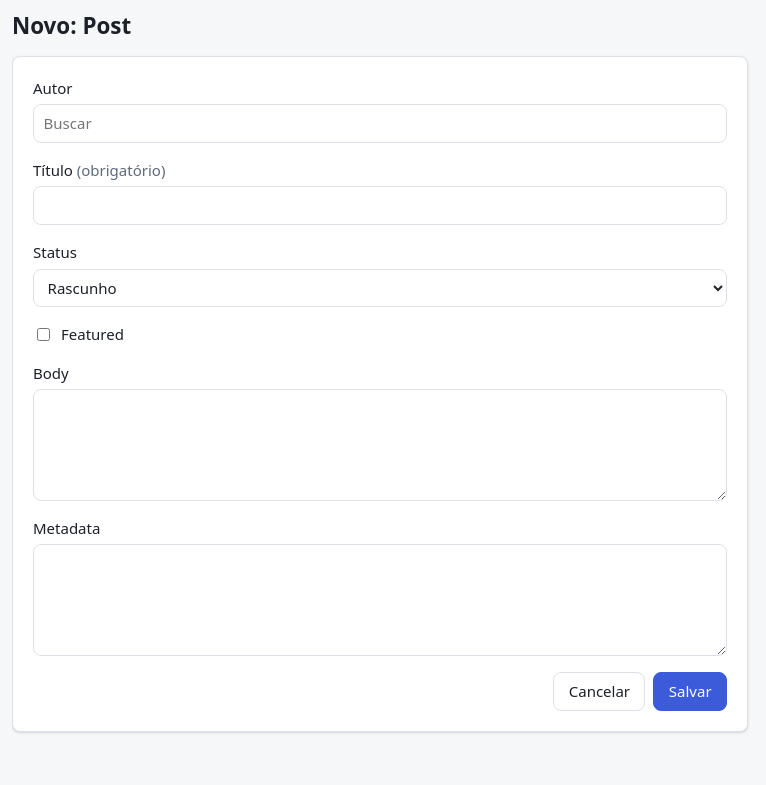
Test: picks the first option with Enter and closes with Escape
The width and height of the screenshot is (766, 785).
Click the dropdown labelled "Autor" at (380, 124), box x1=33 y1=104 x2=727 y2=143
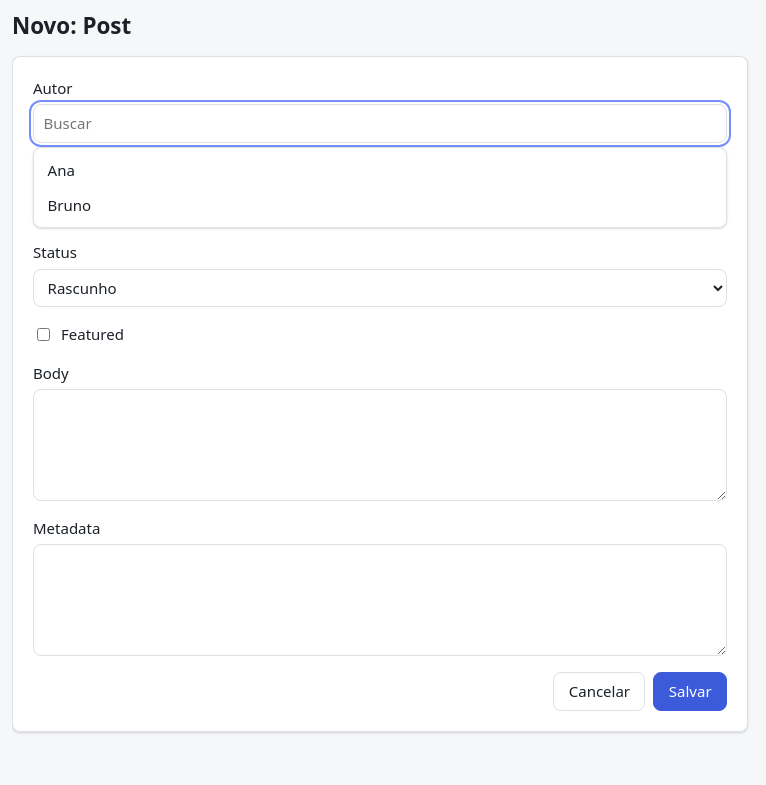
Result: the list is shown at x1=33 y1=147 x2=727 y2=228
Press Escape
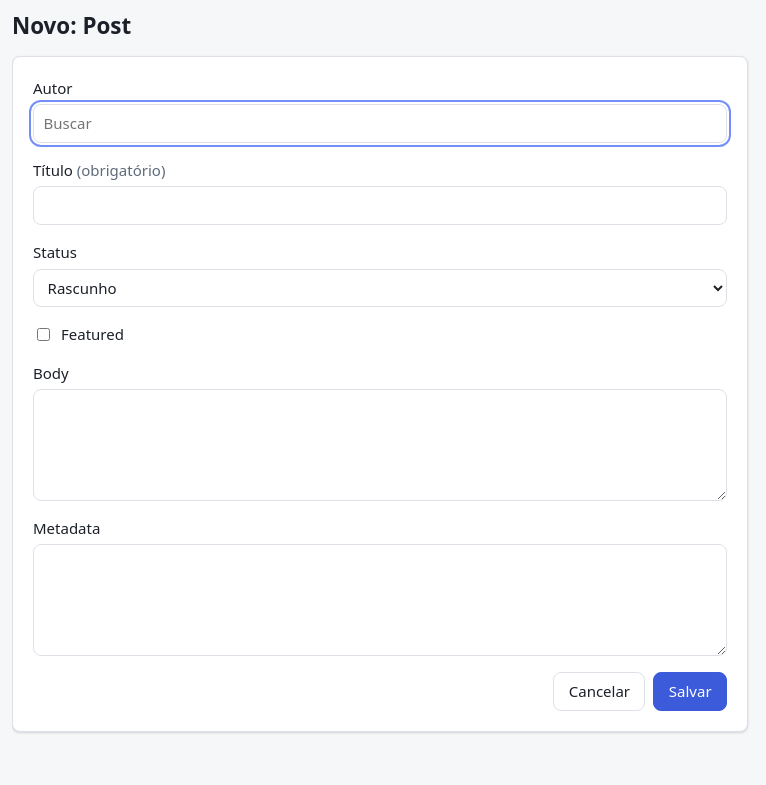
Result: the list is gone
Click the field labelled "Título (obrigatório)" at (380, 206), box x1=33 y1=186 x2=727 y2=225
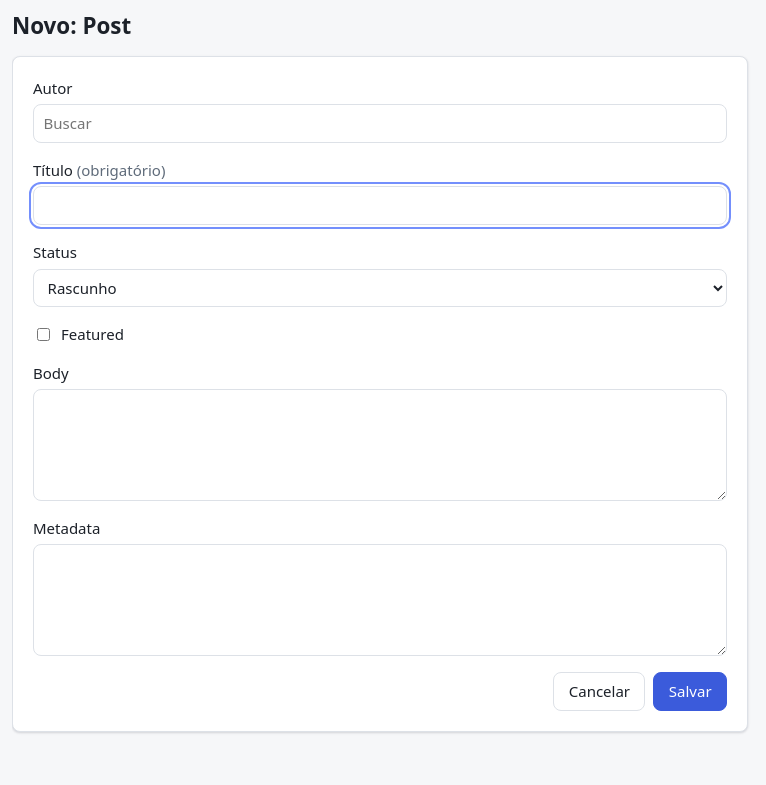
Click the dropdown labelled "Autor" at (380, 124), box x1=33 y1=104 x2=727 y2=143
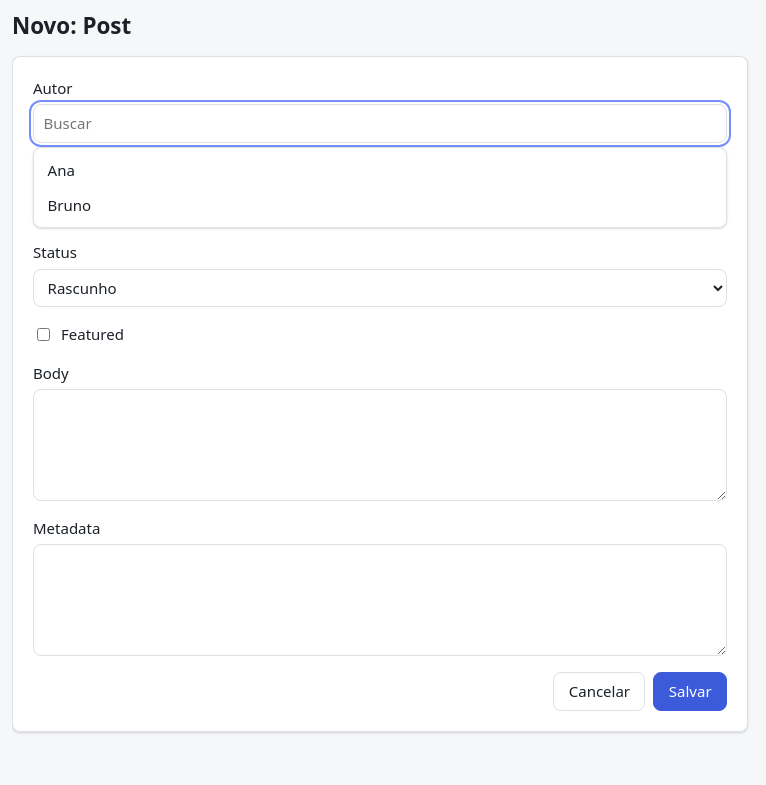
Result: the list is shown at x1=33 y1=147 x2=727 y2=228
Press Enter
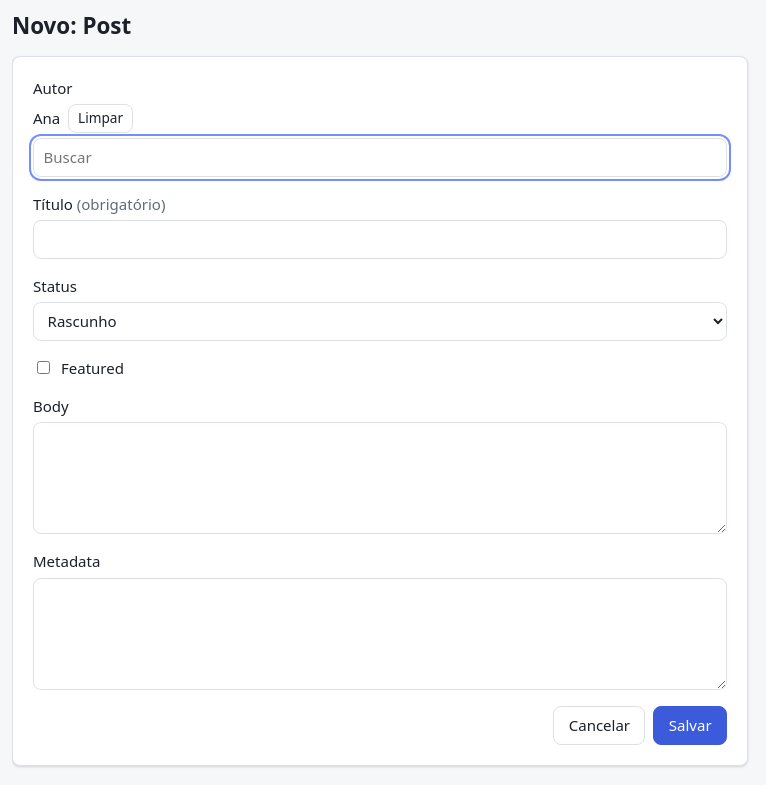
Result: the text "Ana" is shown at x1=33 y1=107 x2=60 y2=130
Result: the dropdown labelled "Autor" is collapsed at x1=33 y1=138 x2=727 y2=177
